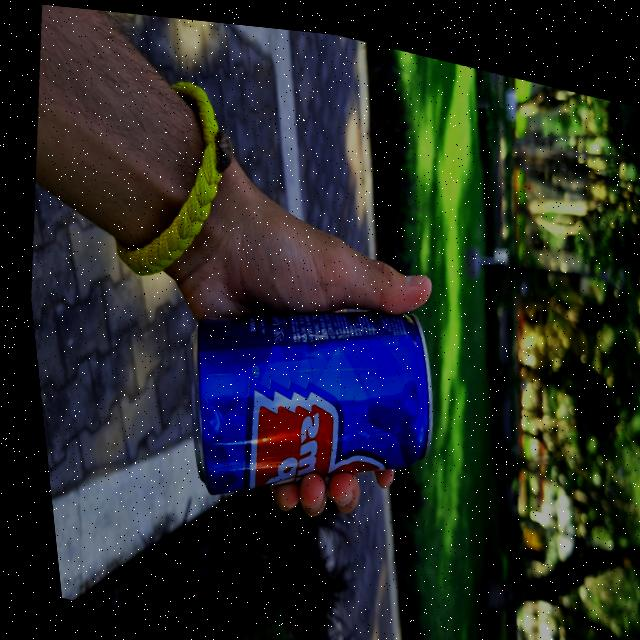Thums Up: (158, 253, 451, 536)
